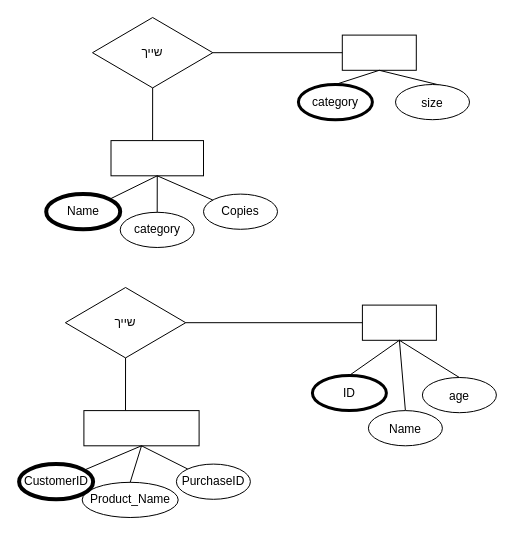
The diagram is 514 pixels wide and 535 high, and some of its shapes have lost their labels. Here are the shapes that lost their labels. From the top down, the centre of each, then its label:
(x=378, y=52): Platoon
(x=157, y=158): Book
(x=398, y=322): Client
(x=141, y=428): Transactions_table
